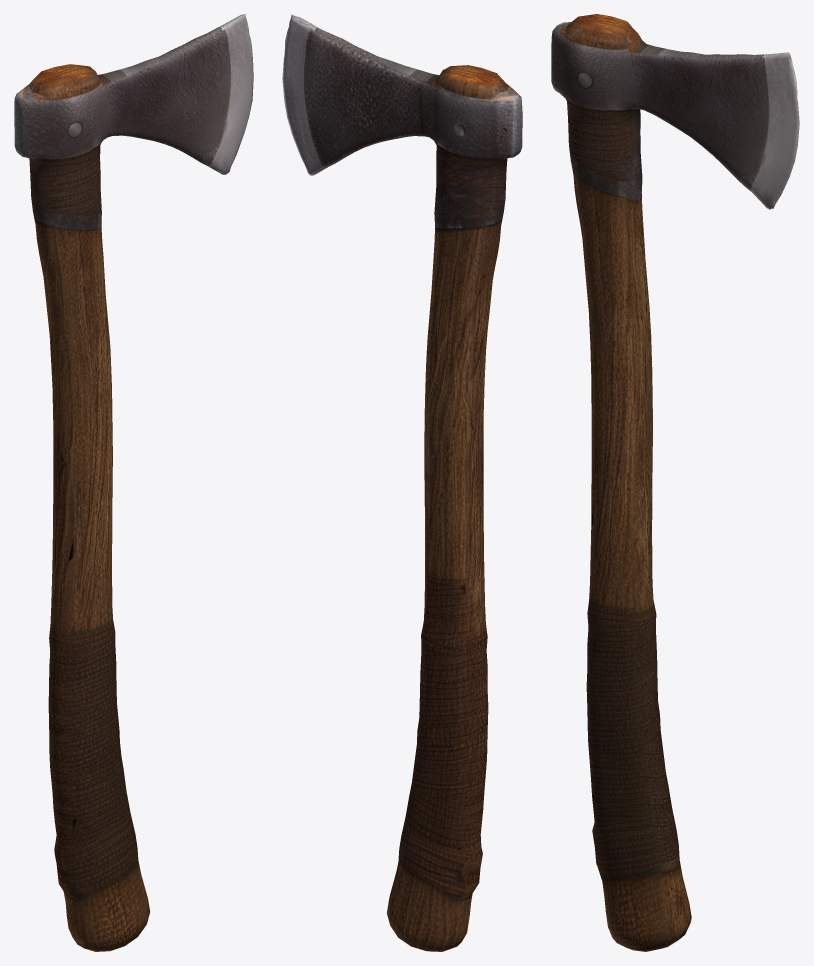
The model's file is Axe.fbx.
3 views of the same model, side by side, from view 1: azimuth 30°, elevation 25°; view 2: azimuth 150°, elevation 25°; view 3: azimuth 330°, elevation 25° (orthographic). The views are drawn at different scales.
Visible parts, largest first — view 1: Axe; view 2: Axe; view 3: Axe.
Boxes of the visible parts, x1,y1,x2,y2 form: Axe: [14, 14, 253, 951]; Axe: [282, 14, 522, 951]; Axe: [551, 14, 799, 951].
Size of the model in its own units: 27.01 by 98.04 by 6.04.
Materials: 1 (1 with a texture image).
